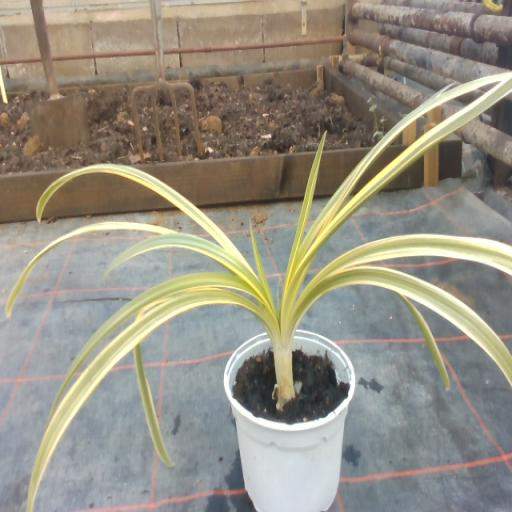Agapanthus-praecox: (27, 289, 278, 511), (282, 71, 511, 311), (285, 74, 504, 288), (49, 272, 262, 421), (294, 267, 511, 385), (36, 164, 254, 274), (294, 235, 511, 313), (6, 222, 174, 317), (105, 231, 262, 300), (285, 134, 325, 290), (134, 343, 173, 466), (399, 294, 448, 388), (250, 221, 273, 304), (136, 301, 161, 320)
